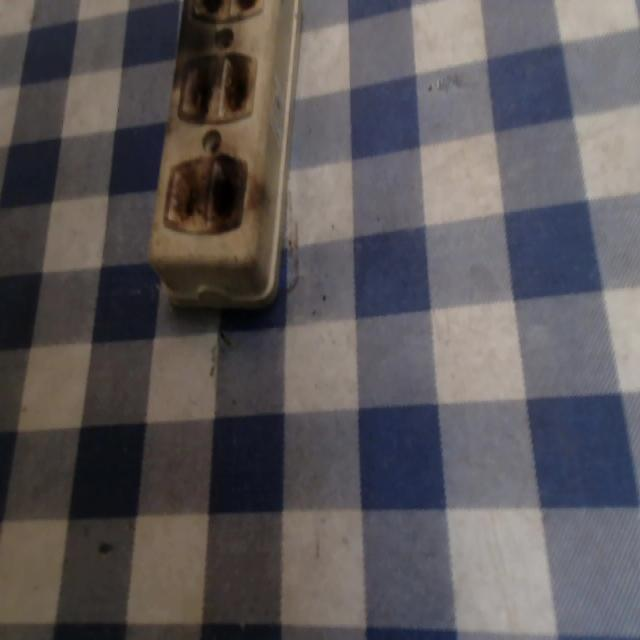-: (162, 150, 249, 233), (175, 52, 259, 123), (186, 0, 266, 21)
